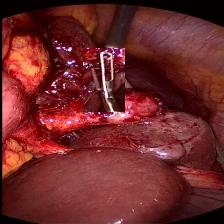Grasper: (82, 48, 124, 112)
